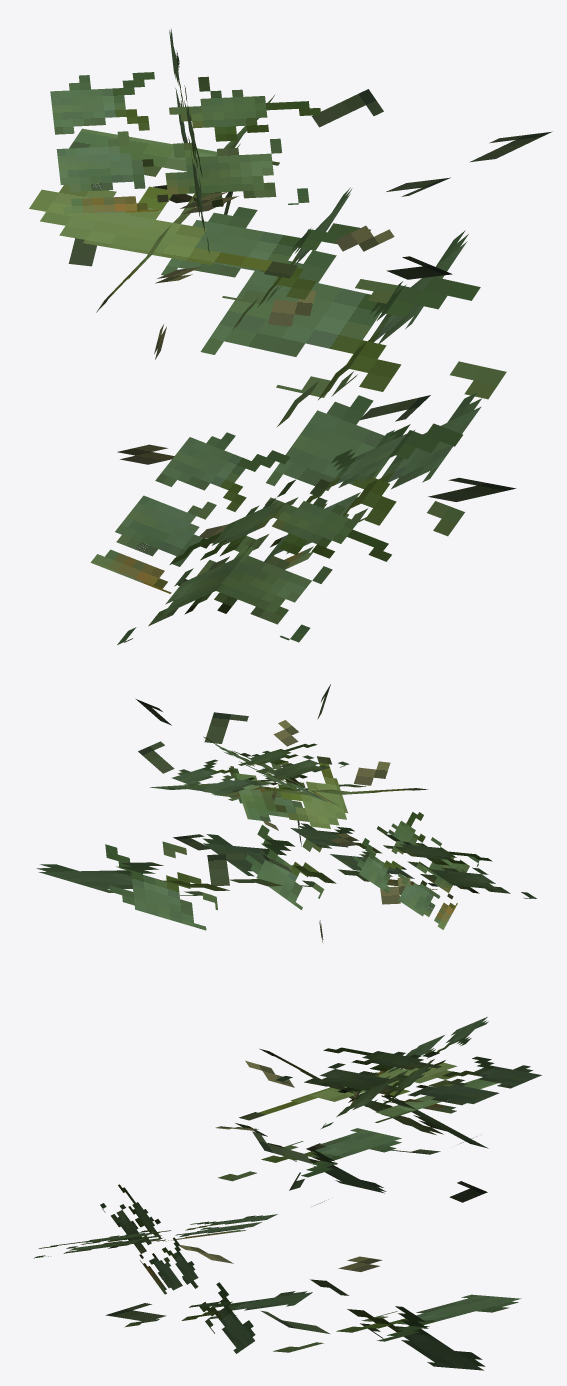
File: hosta-clump-lod2.glb
3 views of the same model, one above another, from view 1: azimuth 30°, elevation 25°; view 2: azimuth 150°, elevation 25°; view 3: azimuth 270°, elevation 25° (orthographic). The views are drawn at different scales.
Visible parts, largest first — view 1: impostor; view 2: impostor; view 3: impostor.
Boxes of the visible parts, x1=… form: impostor: x1=29, y1=29, x2=552, y2=644; impostor: x1=36, y1=684, x2=536, y2=942; impostor: x1=34, y1=1017, x2=541, y2=1370.
Size of the model in its own units: 1.43 by 0.7439 by 1.31.
1 material, 1 textured.
